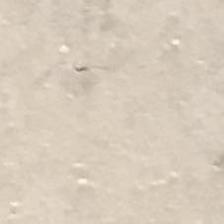Non_Crack: (29, 44, 171, 162)
